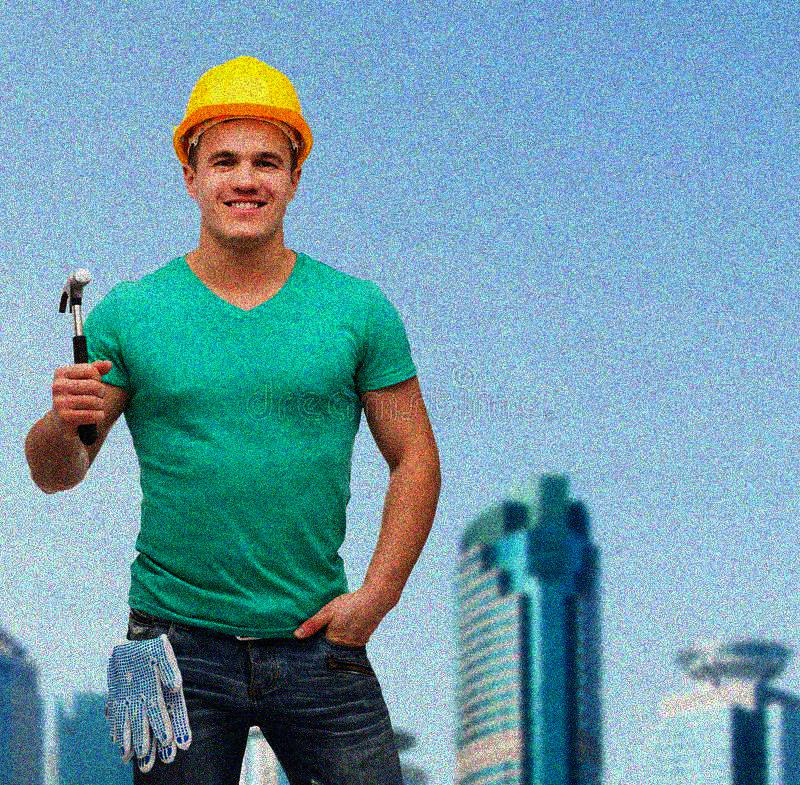helmet: (172, 51, 316, 245)
